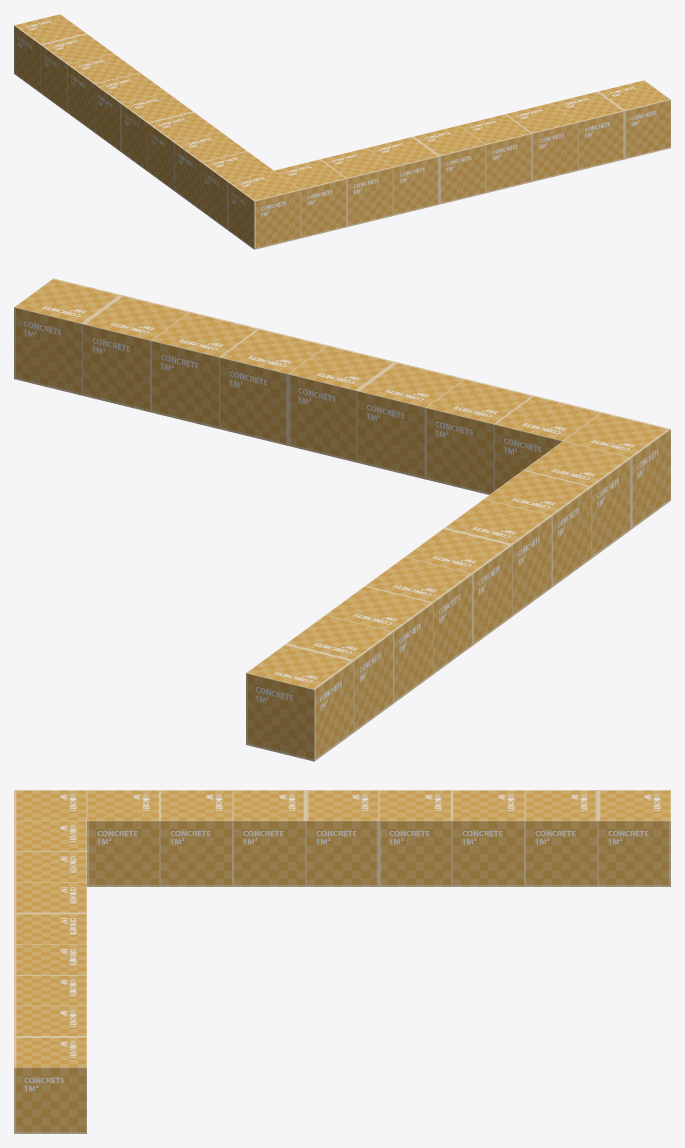
File: construction_edge_convex_16.fbx
3 views of the same model, one above another, from view 1: azimuth 30°, elevation 25°; view 2: azimuth 150°, elevation 25°; view 3: azimuth 270°, elevation 25° (orthographic). The views are drawn at different scales.
Visible parts, largest first — view 1: construction_edge_convex_16; view 2: construction_edge_convex_16; view 3: construction_edge_convex_16.
Boxes of the visible parts, x1=… form: construction_edge_convex_16: x1=14, y1=14, x2=670, y2=249; construction_edge_convex_16: x1=14, y1=278, x2=670, y2=761; construction_edge_convex_16: x1=14, y1=790, x2=670, y2=1133.
Bounding box in the file's own units: 900 × 100 × 900.
